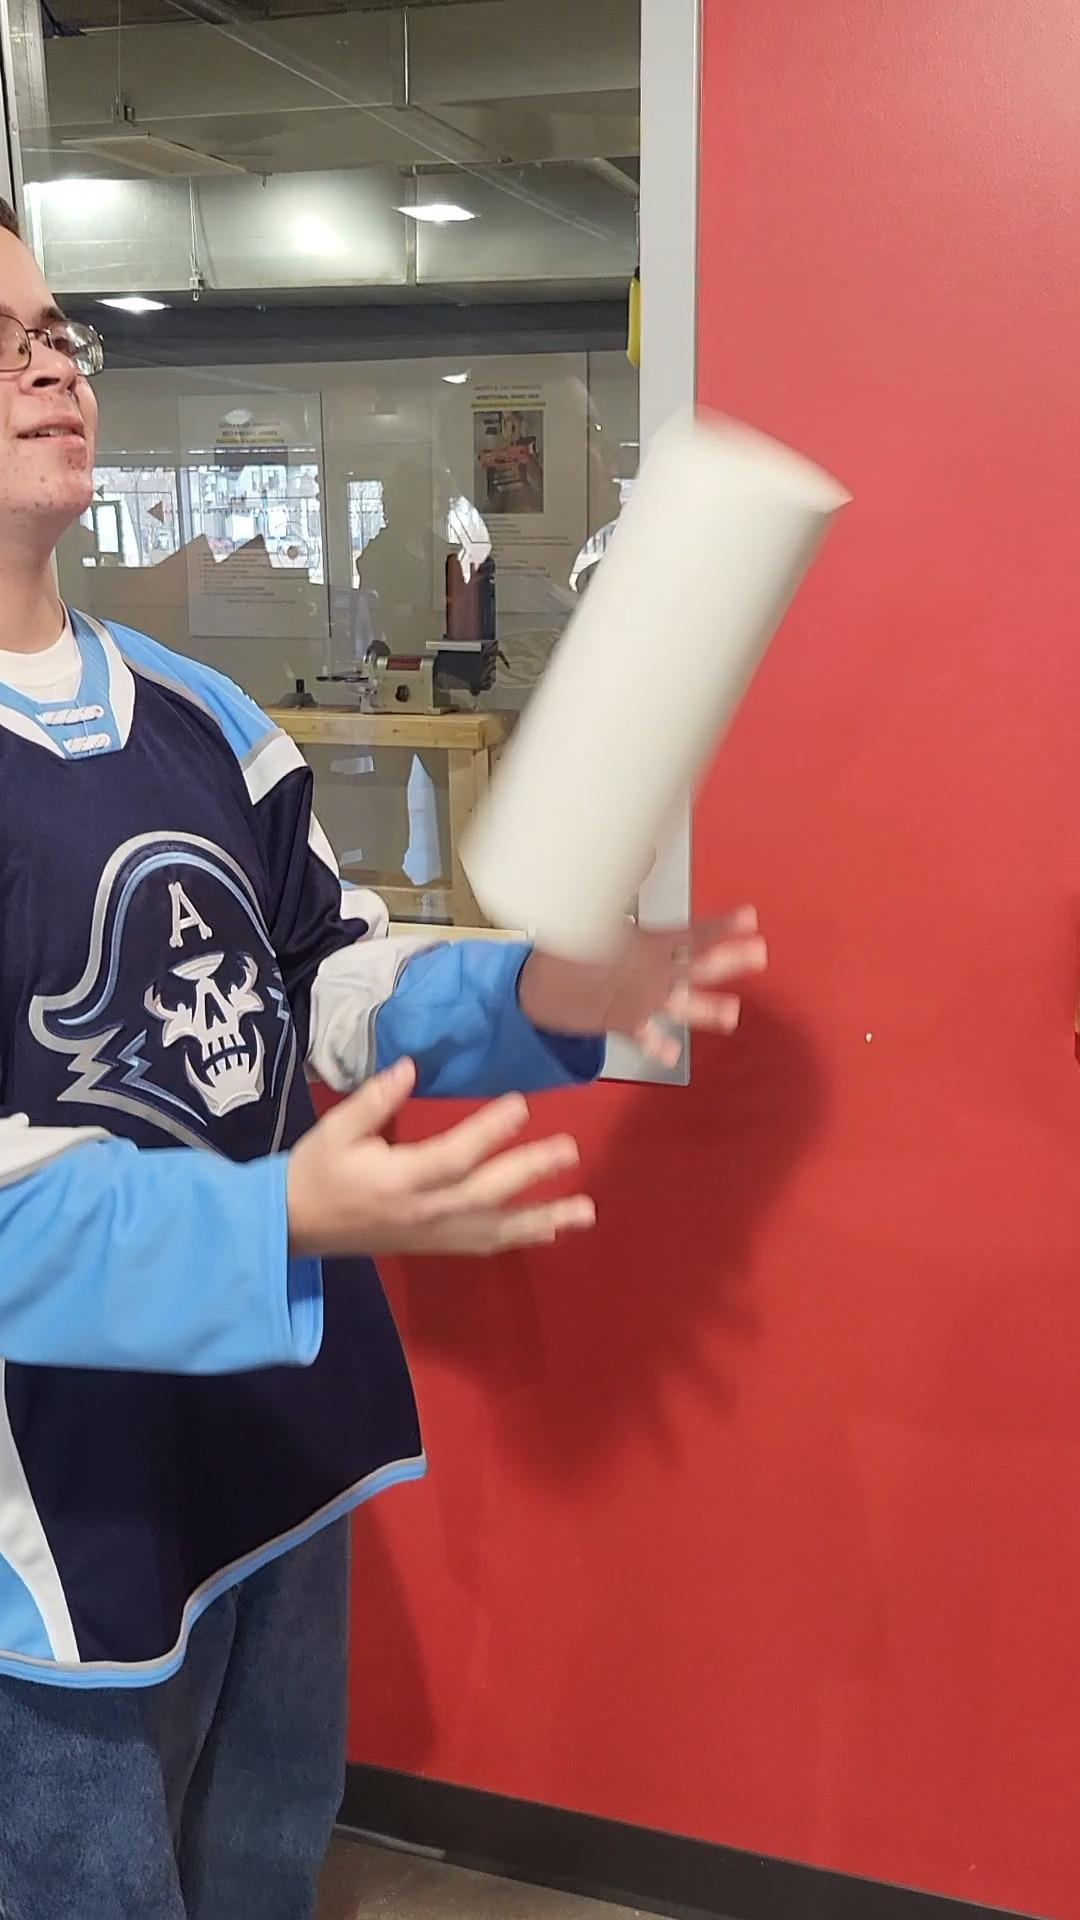coral: (454, 401, 847, 971)
